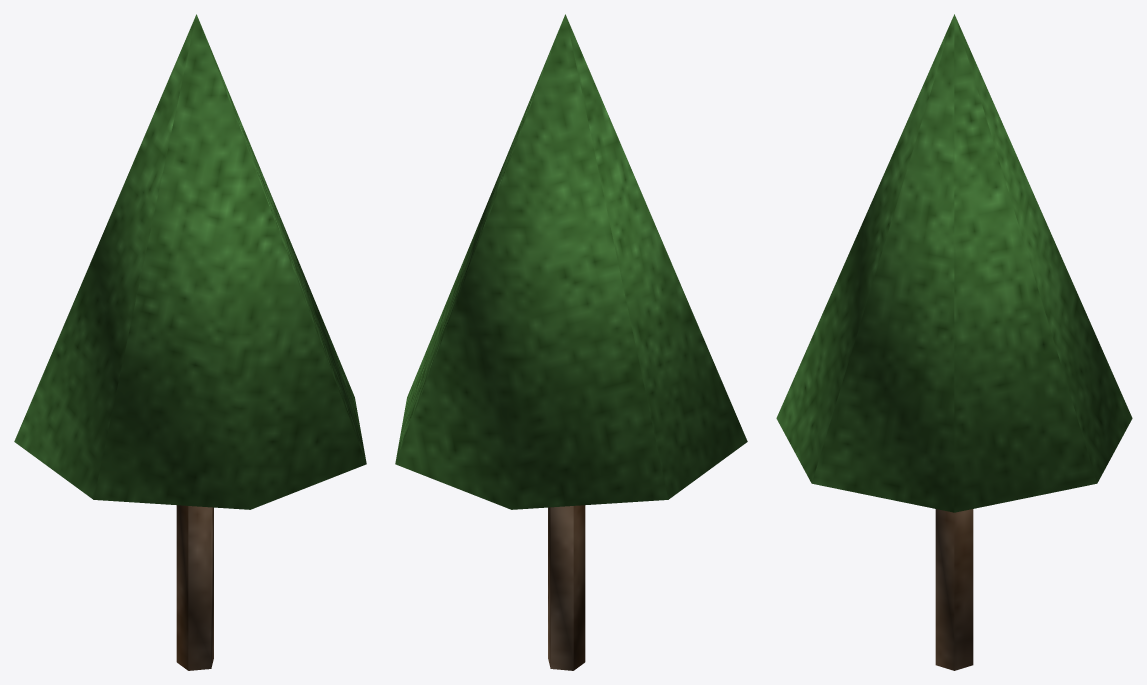
File: ambient_tree_17.glb
3 views of the same model, side by side, from view 1: azimuth 30°, elevation 25°; view 2: azimuth 150°, elevation 25°; view 3: azimuth 270°, elevation 25° (orthographic).
Parts seen in each view (by area): view 1: ambient_tree_17; view 2: ambient_tree_17; view 3: ambient_tree_17.
Boxes of the visible parts, box(x1,y1,x2,y2) form: ambient_tree_17: box(14, 14, 366, 670); ambient_tree_17: box(395, 14, 747, 670); ambient_tree_17: box(776, 14, 1132, 670).
Bounding box in the file's own units: 1.05 × 2.15 × 1.07.
2 materials, 2 textured.
